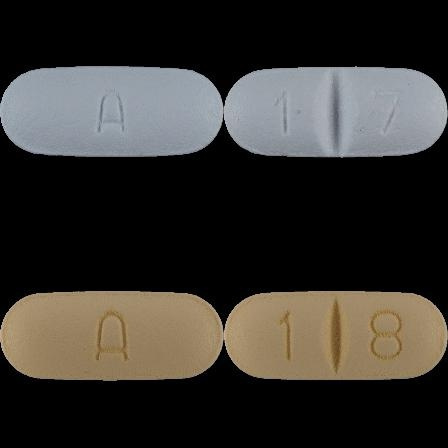65862-012: (0, 0, 224, 224)
